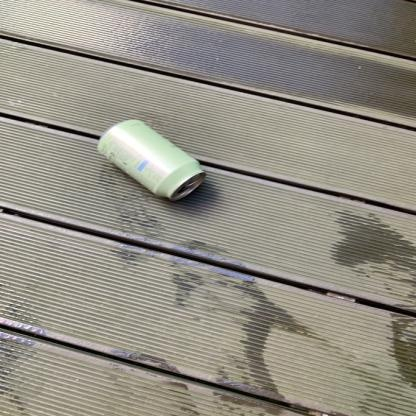trash: (98, 120, 204, 200)
